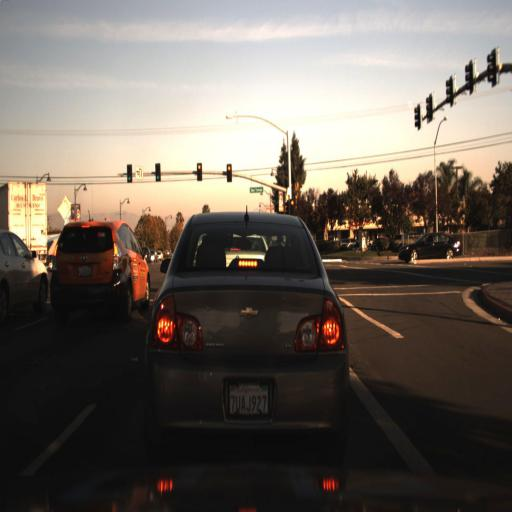car: (149, 214, 344, 458), (51, 216, 152, 322), (0, 225, 52, 323), (394, 227, 461, 264)
trafficLight-GreenLeft: (152, 160, 162, 186), (125, 159, 135, 184)
trafficLight-Red: (224, 162, 234, 187), (288, 196, 298, 220), (196, 158, 205, 182)
truck: (0, 178, 51, 266), (0, 181, 47, 273)
